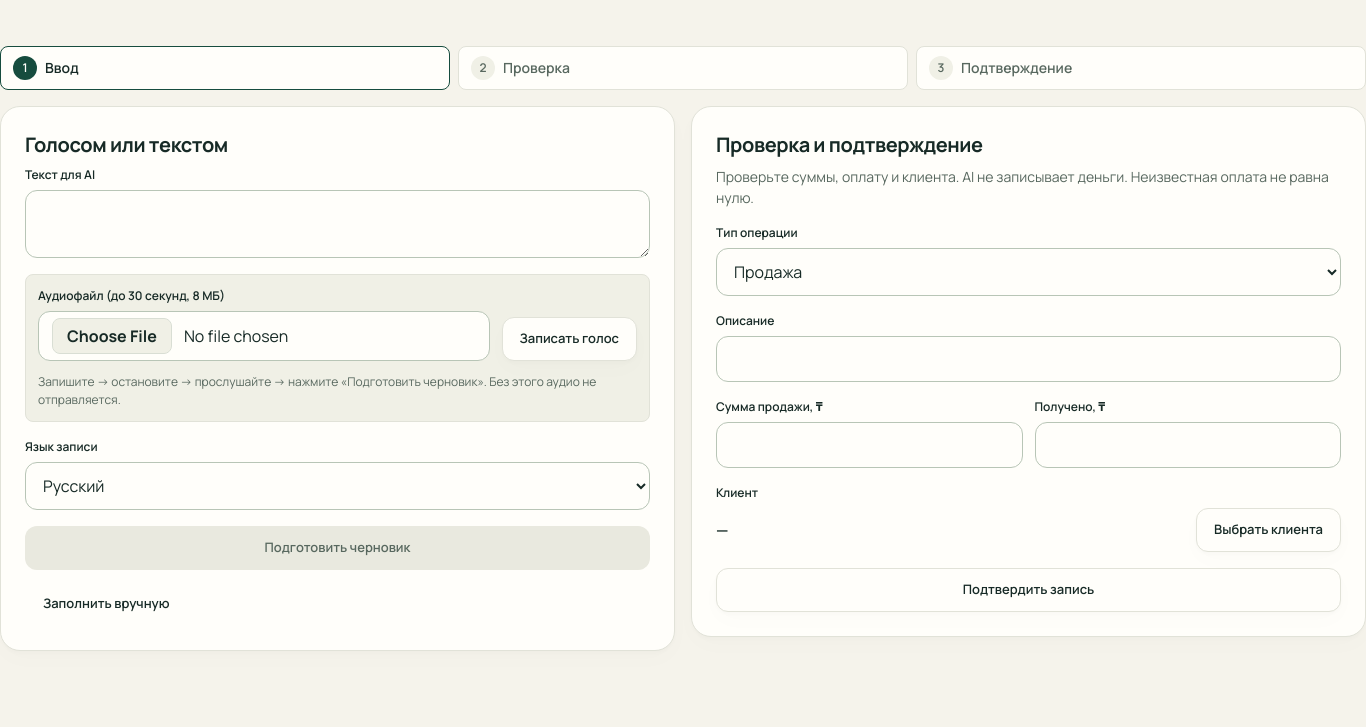
Test: Новая запись › falls back to the general AI message for unknown server failures
Type "Продал на 3000" into the text box labelled "Текст для AI" at (338, 224), box [25,190,650,258]
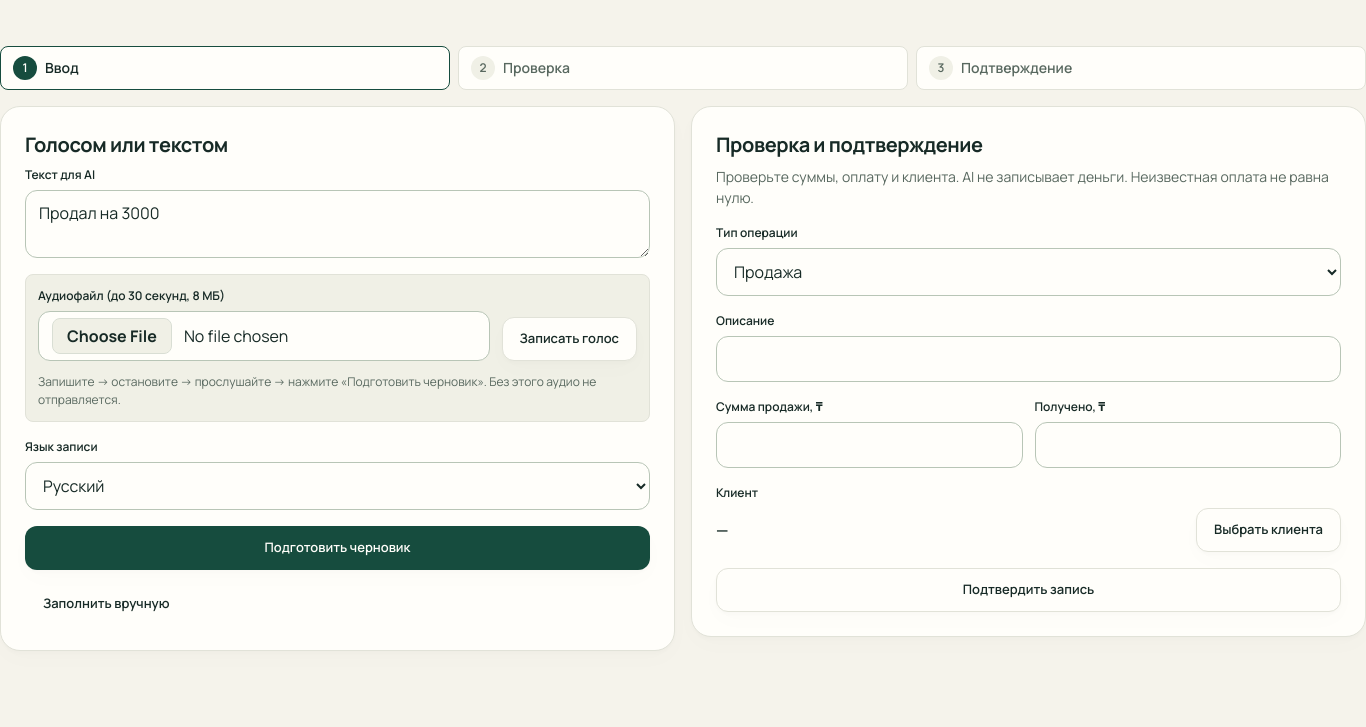
Click the button "Подготовить черновик" at (338, 548), box [25,526,650,570]
(page scrolled)
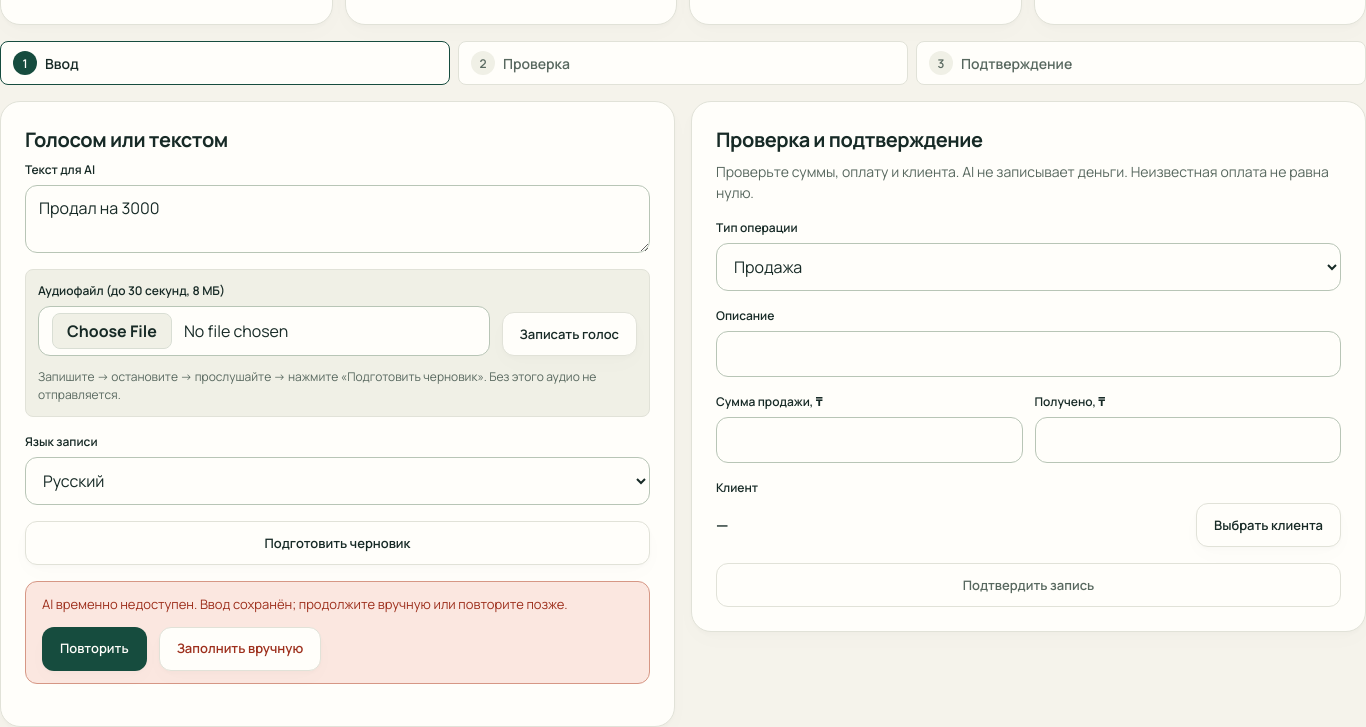
Expected: the message shows "AI временно недоступен", [42,595,567,613]
